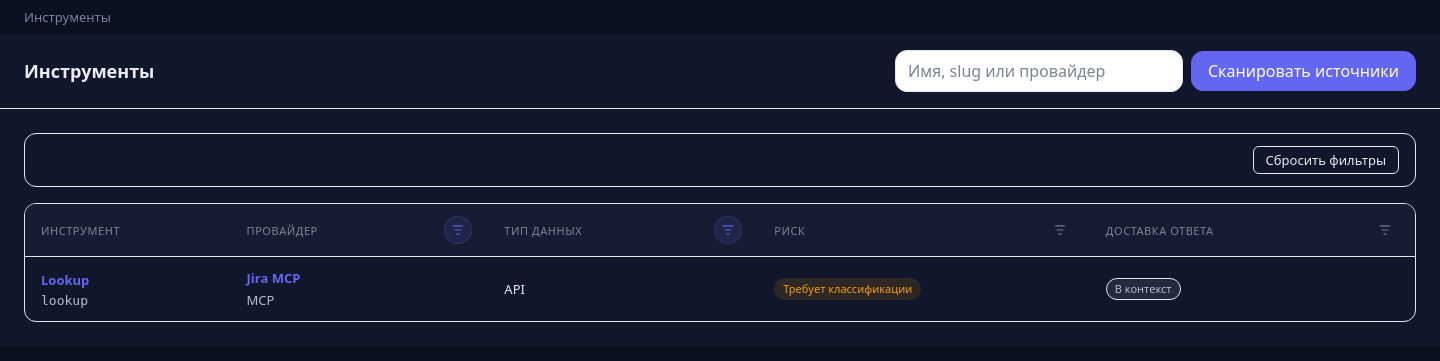
Test: tools registry › combines URL filters and search and preserves them in the detail link
Expected: the link "Other" is not shown
Expected: the text "Требует классификации" is shown, [774, 278, 921, 300]
Type "unknown" into the search field named "Поиск инструментов" at (1039, 71), box [895, 50, 1183, 92]
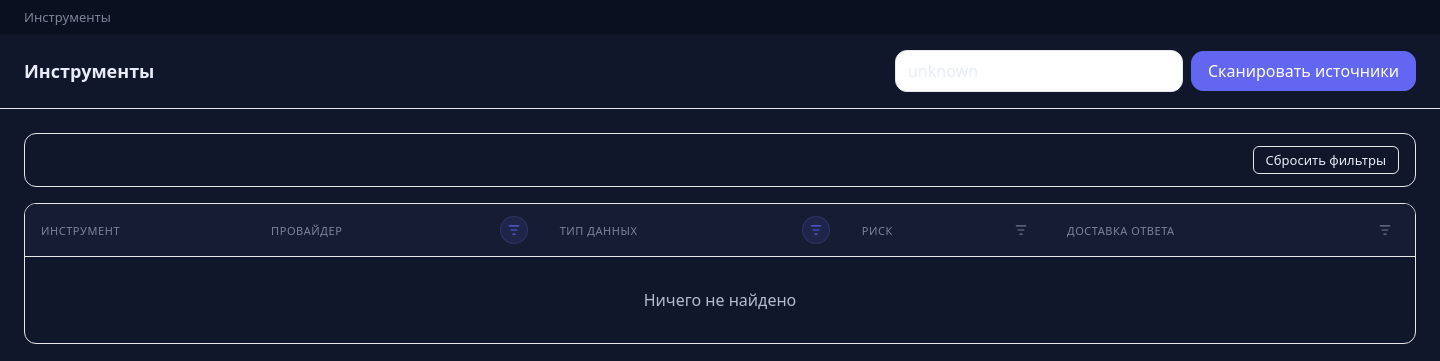
Now the text "Ничего не найдено" is shown, box [644, 289, 796, 311]
Click the button "Сбросить фильтры" at (1326, 160), box [1253, 146, 1399, 174]
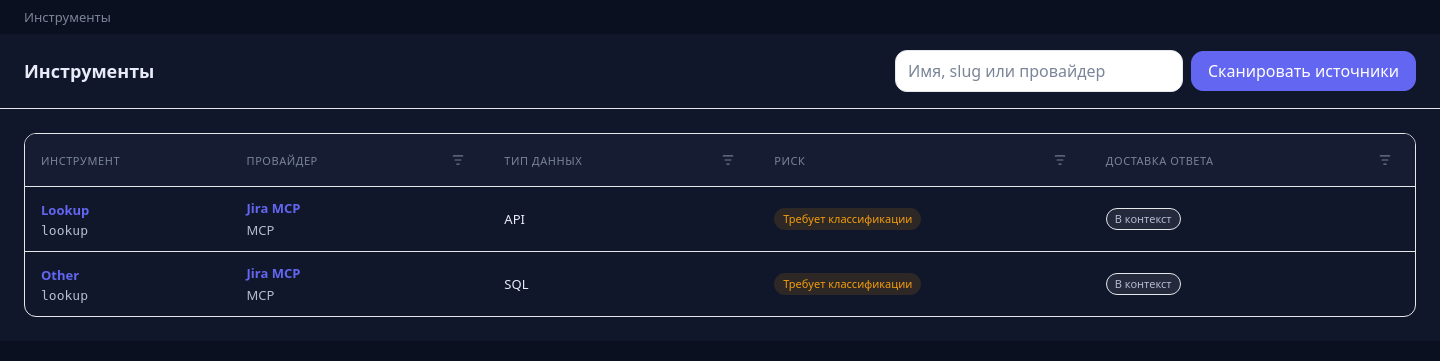
Now the link "Other" is shown, box [41, 266, 79, 284]
